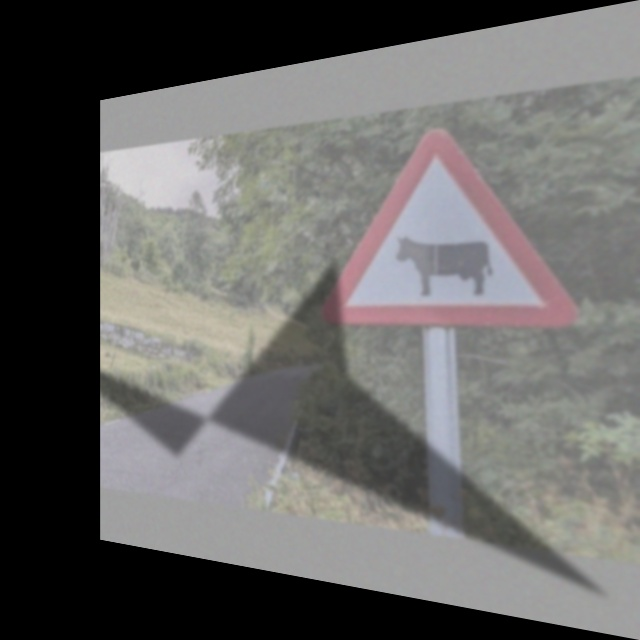Cattle: (337, 109, 569, 335)
